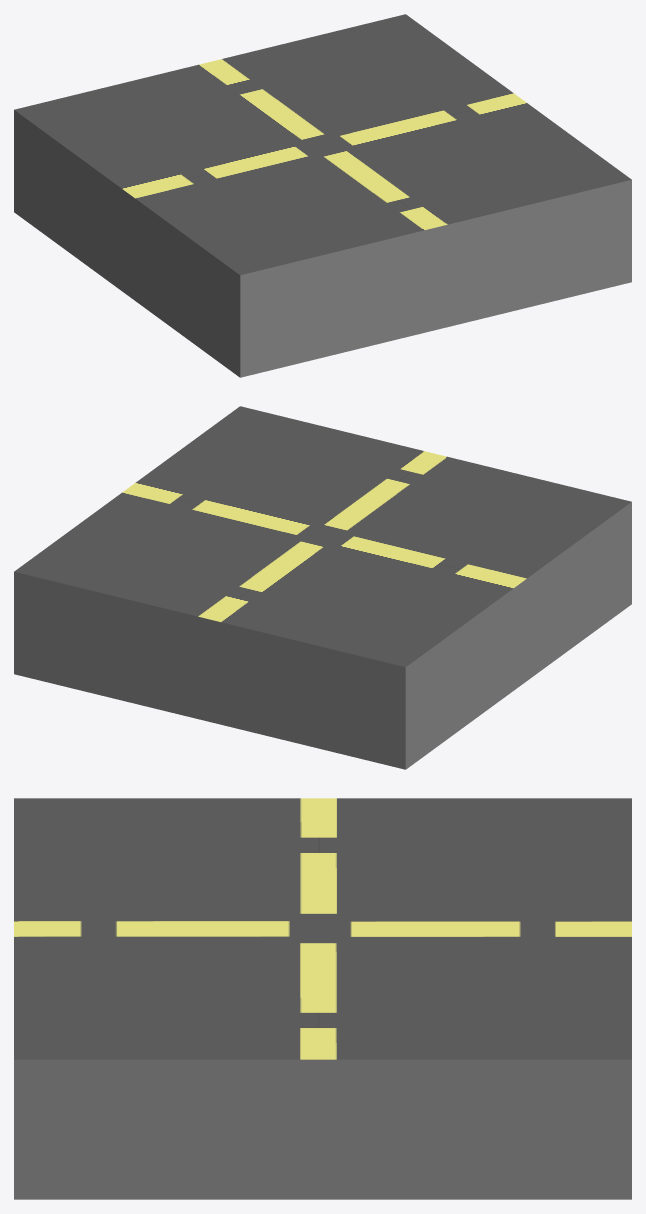
The model's file is 2025-11-26-Boswell-CrossRoad-v001 - Copy.fbx.
3 views of the same model, one above another, from view 1: azimuth 30°, elevation 25°; view 2: azimuth 150°, elevation 25°; view 3: azimuth 270°, elevation 25° (orthographic). The views are drawn at different scales.
Parts seen in each view (by area): view 1: Cube; view 2: Cube; view 3: Cube.
Part boxes in pixels (x1,y1,x2,y2): Cube: [14, 14, 631, 377]; Cube: [14, 406, 631, 769]; Cube: [14, 798, 631, 1199].
Size of the model in its own units: 100 by 25 by 100.
2 materials, 1 textured.
